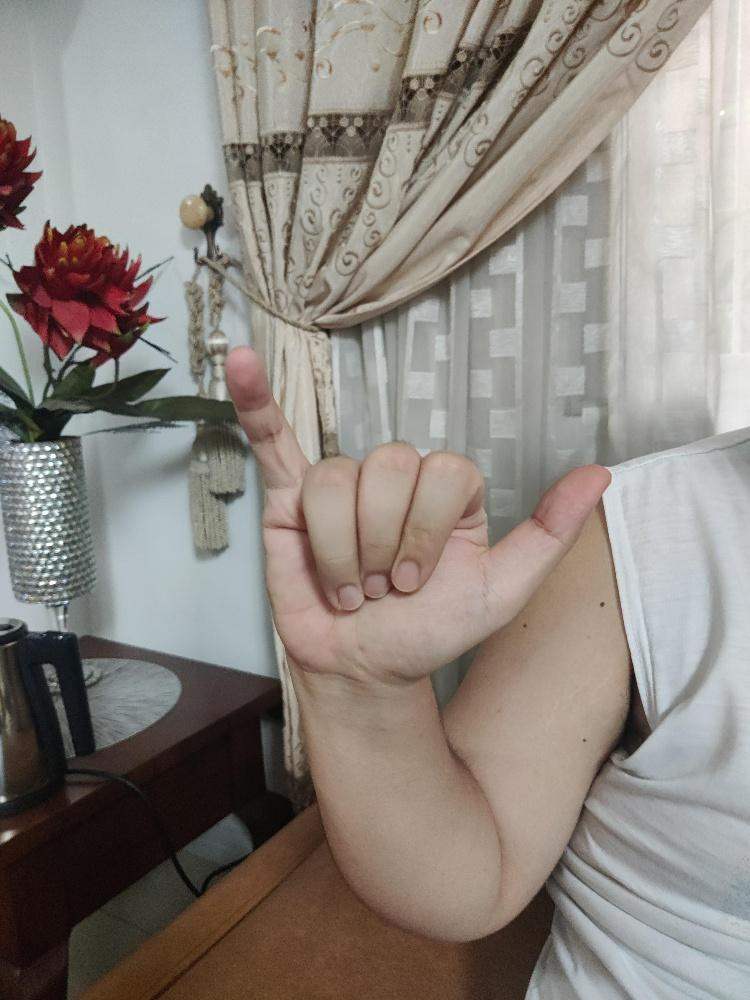y: (221, 344, 613, 684)
